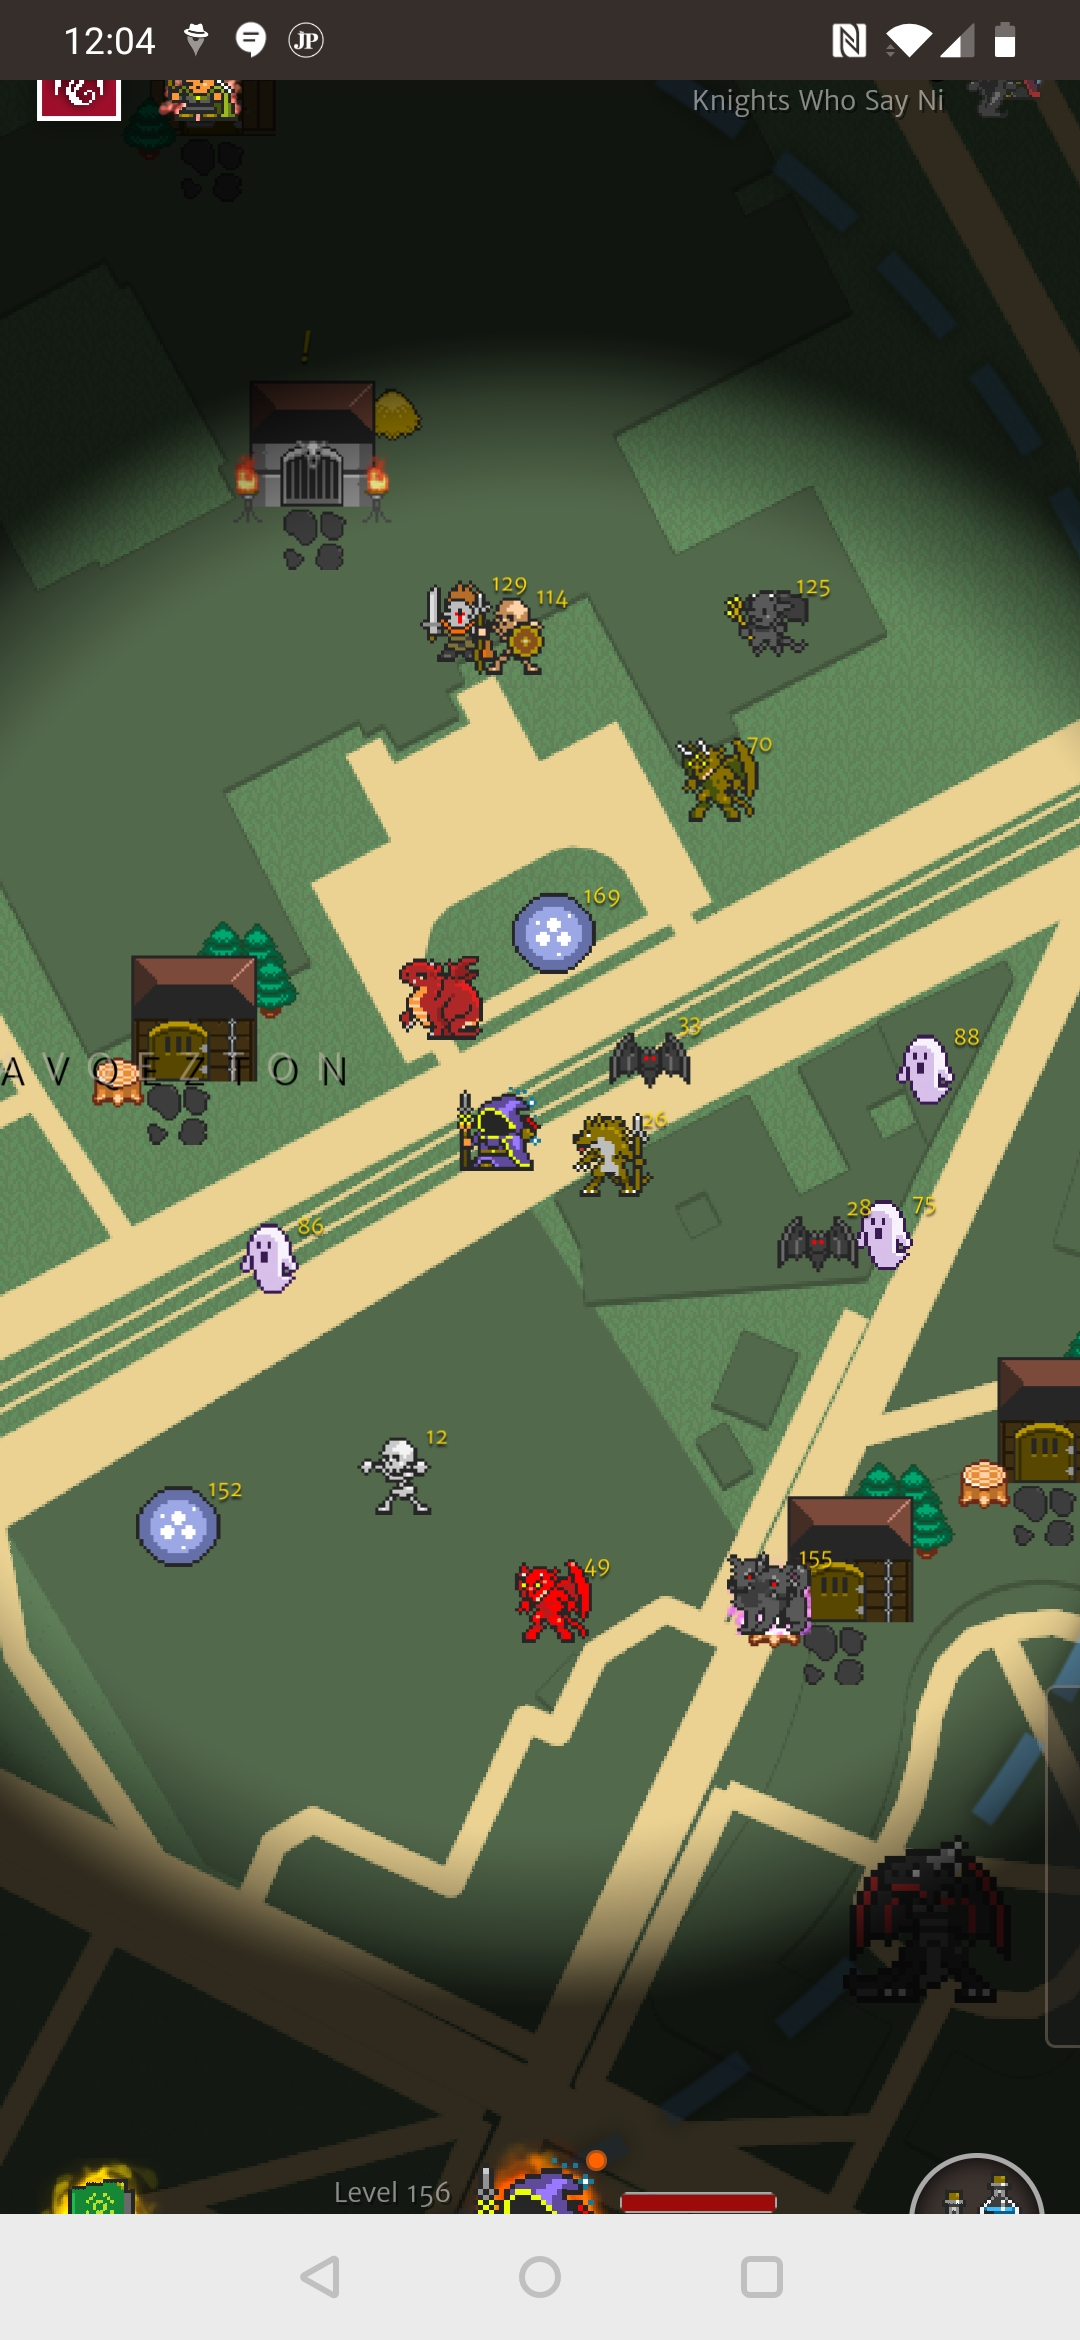monster: (126, 1471, 267, 1589), (508, 875, 646, 989), (667, 727, 791, 844), (719, 565, 843, 682), (508, 1551, 622, 1654), (360, 1416, 467, 1520), (891, 1020, 995, 1116), (226, 1213, 326, 1306)
player: (450, 1082, 553, 1185)
